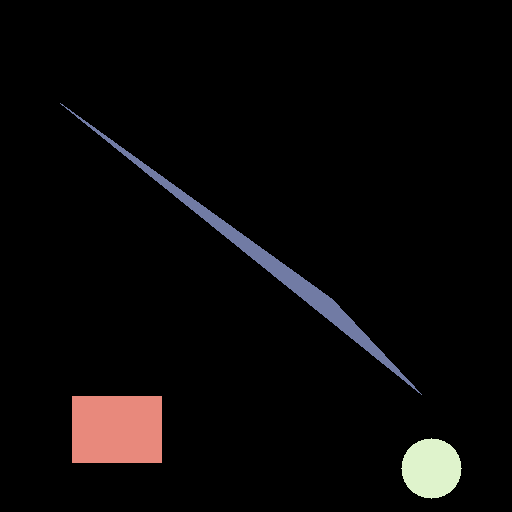circle: (401, 438, 461, 498)
rectangle: (72, 396, 161, 462)
